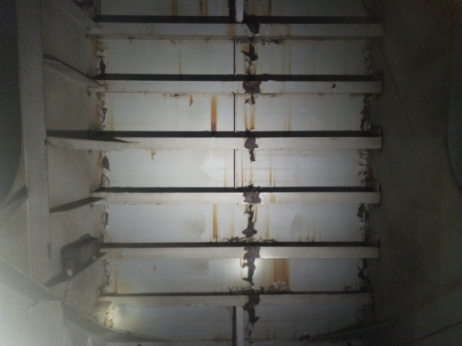corrosion: (233, 39, 272, 80), (201, 199, 228, 240), (239, 92, 267, 131), (263, 259, 292, 291), (238, 209, 271, 237), (355, 251, 376, 290), (235, 260, 264, 288), (94, 264, 117, 299), (353, 201, 376, 236), (354, 39, 380, 69), (240, 74, 273, 97), (353, 94, 376, 127), (241, 136, 264, 165), (207, 95, 223, 135), (241, 295, 263, 324), (95, 93, 112, 130), (99, 209, 116, 246), (246, 18, 268, 45), (362, 151, 378, 185), (100, 155, 116, 187), (233, 191, 272, 204), (93, 44, 109, 73), (240, 244, 263, 258)
